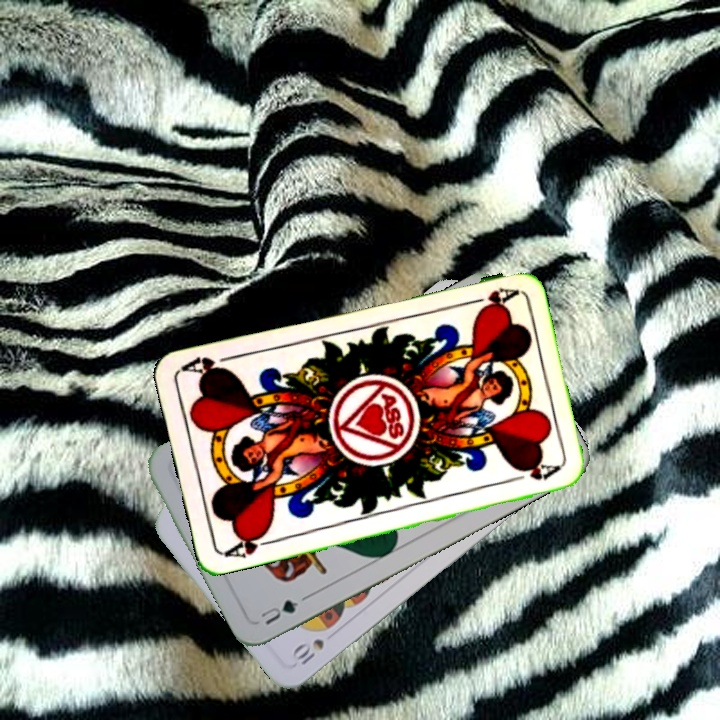GU: (256, 595, 301, 628)
HA: (221, 527, 279, 561), (460, 283, 519, 315)
S10: (288, 634, 327, 668)
